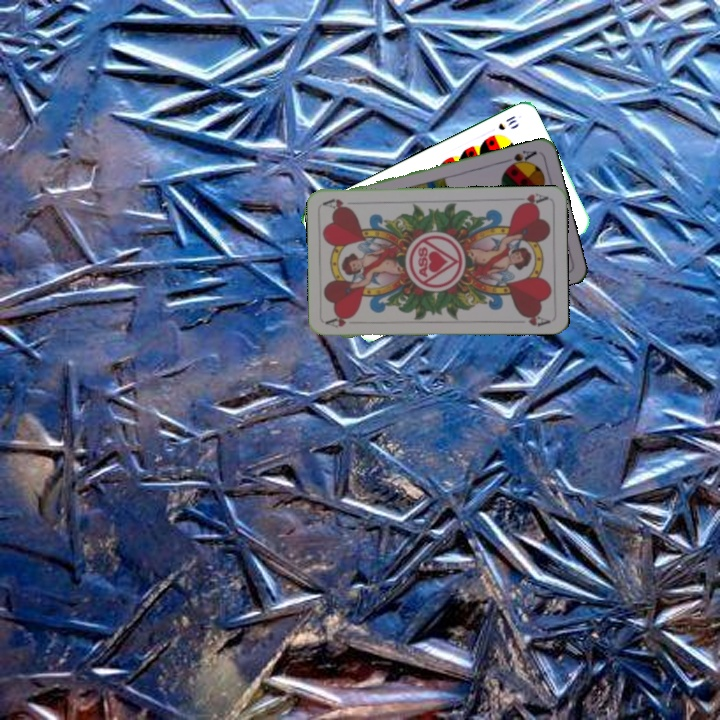HA: (510, 189, 551, 209), (323, 312, 356, 330)
S10: (494, 112, 519, 133)
SA: (500, 146, 539, 171)
